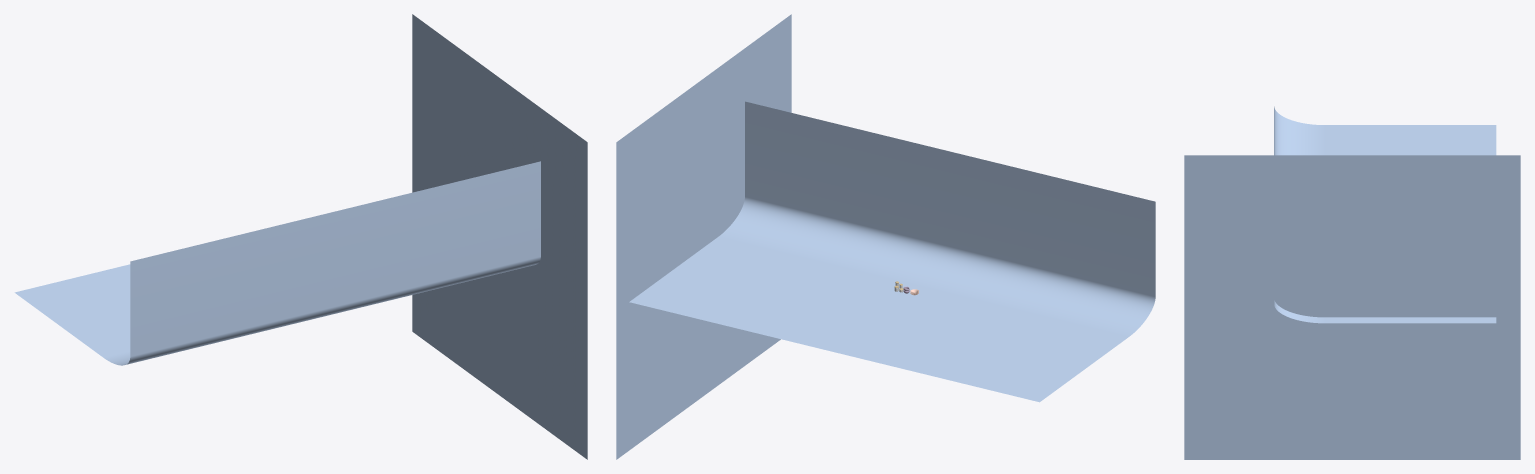
The model's file is BSC_Kitchen_clutter_low_poly_asset.glb.
3 renders of one model, left to right at view 1: azimuth 30°, elevation 25°; view 2: azimuth 150°, elevation 25°; view 3: azimuth 270°, elevation 25°, orthographic. The views are drawn at different scales.
Visible parts, largest first — view 1: Background 1, Background side 2; view 2: Background 1, Background side 2; view 3: Background side 2, Background 1.
Part boxes in pixels (x1,y1,x2,y2): Background 1: [14, 161, 540, 365]; Background side 2: [412, 14, 587, 459]; Background 1: [629, 101, 1155, 402]; Background side 2: [616, 14, 791, 459]; Background side 2: [1184, 155, 1520, 459]; Background 1: [1274, 106, 1496, 323].
Bounding box in the file's own units: 21.25 × 15.24 × 15.24.
